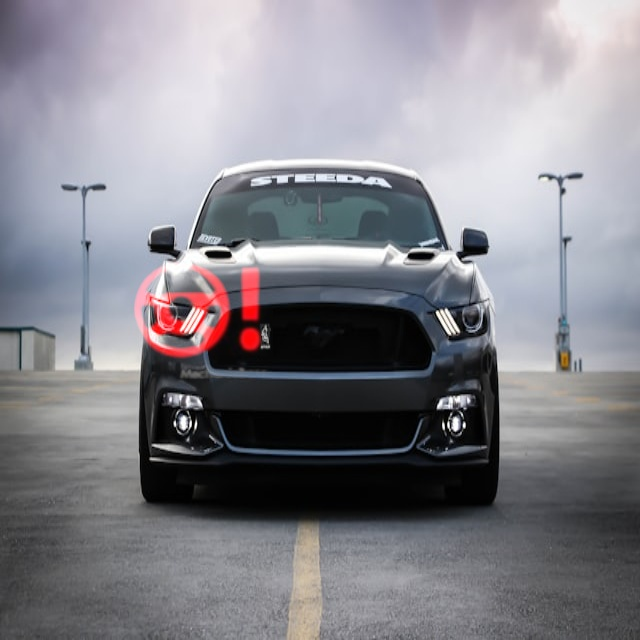symbol: (121, 234, 273, 386)
